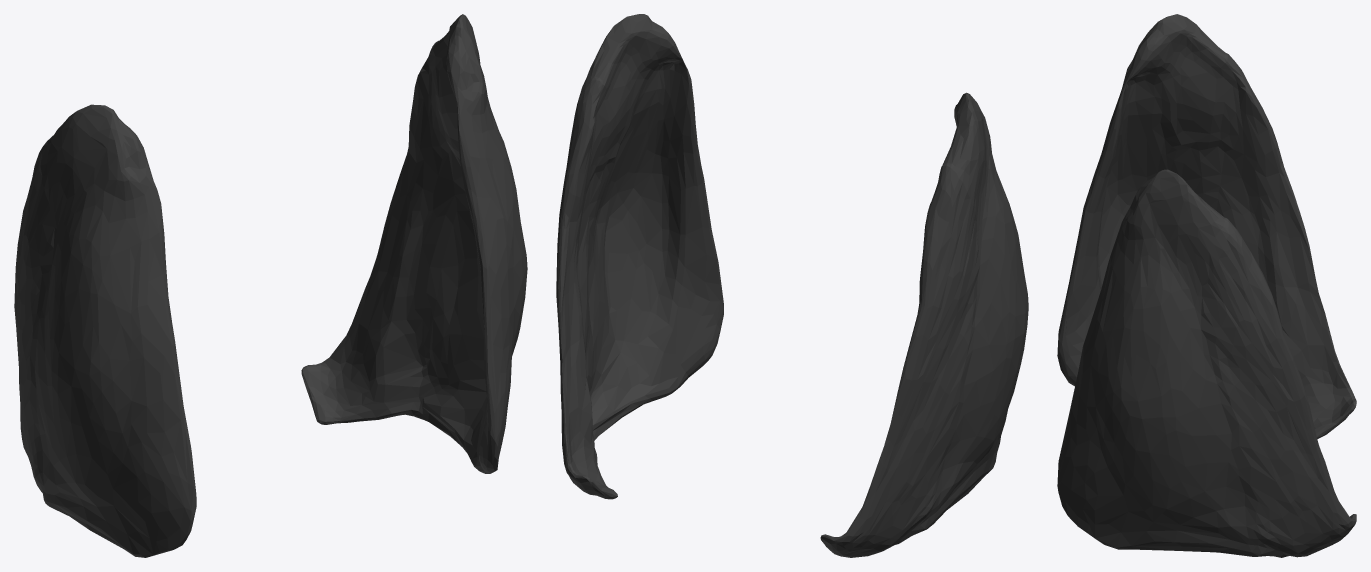
The model's file is fascia_lata.glb.
The picture shows the model from 3 angles, left to right: view 1: azimuth 30°, elevation 25°; view 2: azimuth 150°, elevation 25°; view 3: azimuth 270°, elevation 25°; orthographic projection. The views are drawn at different scales.
Visible parts, largest first — view 1: fascia_lata; view 2: fascia_lata; view 3: fascia_lata.
Part boxes in pixels (left/top/right/bottom): fascia_lata: left=14, top=14, right=527, bottom=557; fascia_lata: left=556, top=14, right=1028, bottom=557; fascia_lata: left=1057, top=14, right=1356, bottom=557.
Size of the model in its own units: 0.00619 by 0.00591 by 0.00399.
1 material, 1 textured.
